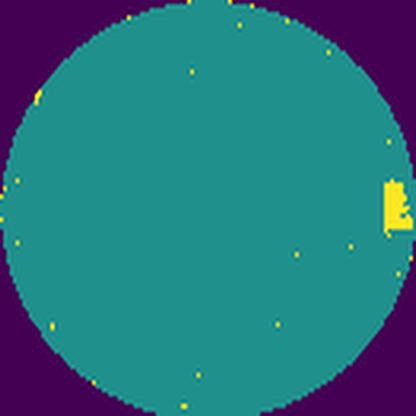Edge-Loc: (382, 176, 412, 234)
